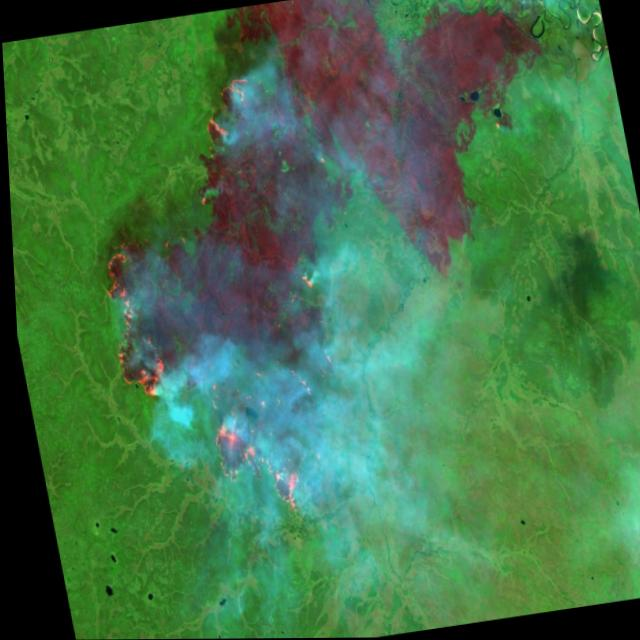fire: (54, 52, 390, 551)
